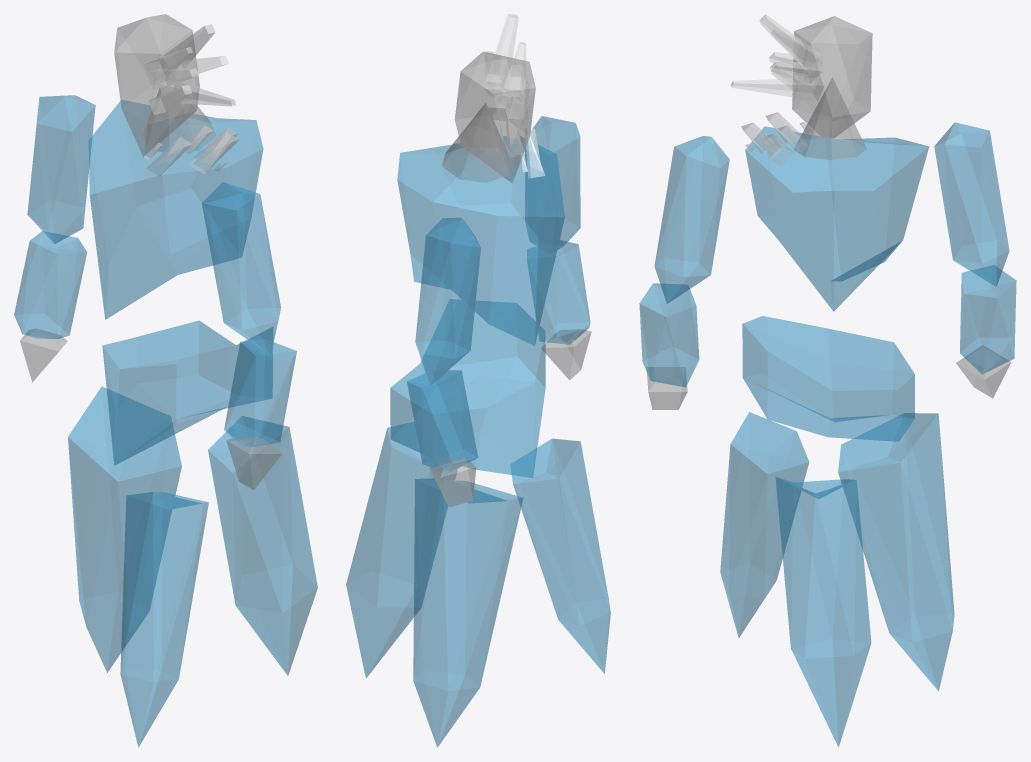
Rendered from ghostIdle17.obj.
3 views of the same model, side by side, from view 1: azimuth 30°, elevation 25°; view 2: azimuth 150°, elevation 25°; view 3: azimuth 270°, elevation 25° (orthographic). The views are drawn at different scales.
Parts seen in each view (by area): view 1: Cube.001_Cube.001, Icosphere.005, Icosphere.004, Cube_Cube.002, Icosphere.003, Icosphere.005_Icosphere.001, Icosphere.003_Icosphere.001, Icosphere.007_Icosphere.001, Icosphere.008_Icosphere.001, Icosphere.006_Icosphere.001, Cone_Cone.002, Cube.002_Cube.001 (+10 smaller); view 2: Cube.001_Cube.001, Cube_Cube.002, Icosphere.005, Icosphere.004, Icosphere.003, Icosphere.007_Icosphere.001, Icosphere.003_Icosphere.001, Icosphere.005_Icosphere.001, Icosphere.008_Icosphere.001, Icosphere.006_Icosphere.001, Cone_Cone.002, Cube.003_Cube.001 (+5 smaller); view 3: Cube.001_Cube.001, Icosphere.005, Icosphere.004, Cube_Cube.002, Icosphere.003, Icosphere.005_Icosphere.001, Icosphere.007_Icosphere.001, Icosphere.003_Icosphere.001, Icosphere.006_Icosphere.001, Icosphere.008_Icosphere.001, Cone_Cone.002, Cube.003_Cube.001 (+4 smaller).
Boxes of the visible parts, x1,y1,x2,y2 form: Cube.001_Cube.001: (88,100,263,319); Icosphere.005: (68,386,181,672); Icosphere.004: (208,416,317,675); Cube_Cube.002: (102,320,272,465); Icosphere.003: (120,492,208,747); Icosphere.005_Icosphere.001: (201,182,280,355); Icosphere.003_Icosphere.001: (114,14,199,157); Icosphere.007_Icosphere.001: (27,95,95,243); Icosphere.008_Icosphere.001: (14,231,86,338); Icosphere.006_Icosphere.001: (224,339,296,446); Cone_Cone.002: (143,88,215,151); Cube.002_Cube.001: (226,437,281,489); Cube.001_Cube.001: (397,136,564,345); Cube_Cube.002: (390,299,545,477); Icosphere.005: (413,478,523,747); Icosphere.004: (346,422,457,678); Icosphere.003: (510,438,610,673); Icosphere.007_Icosphere.001: (415,217,480,385); Icosphere.003_Icosphere.001: (454,51,535,183); Icosphere.005_Icosphere.001: (525,116,580,253); Icosphere.008_Icosphere.001: (407,370,477,473); Icosphere.006_Icosphere.001: (527,240,590,344); Cone_Cone.002: (442,103,509,182); Cube.003_Cube.001: (430,456,476,507); Cube.001_Cube.001: (745,126,928,311); Icosphere.005: (838,413,954,691); Icosphere.004: (775,477,871,747); Cube_Cube.002: (742,316,914,441); Icosphere.003: (720,412,809,637); Icosphere.005_Icosphere.001: (654,136,729,303); Icosphere.007_Icosphere.001: (934,122,1009,286); Icosphere.003_Icosphere.001: (792,16,872,138); Icosphere.006_Icosphere.001: (639,283,699,387); Icosphere.008_Icosphere.001: (960,265,1016,374); Cone_Cone.002: (793,77,866,159); Cube.003_Cube.001: (956,345,1010,398).
Bounding box in the file's own units: 16.57 × 49.63 × 24.91.
